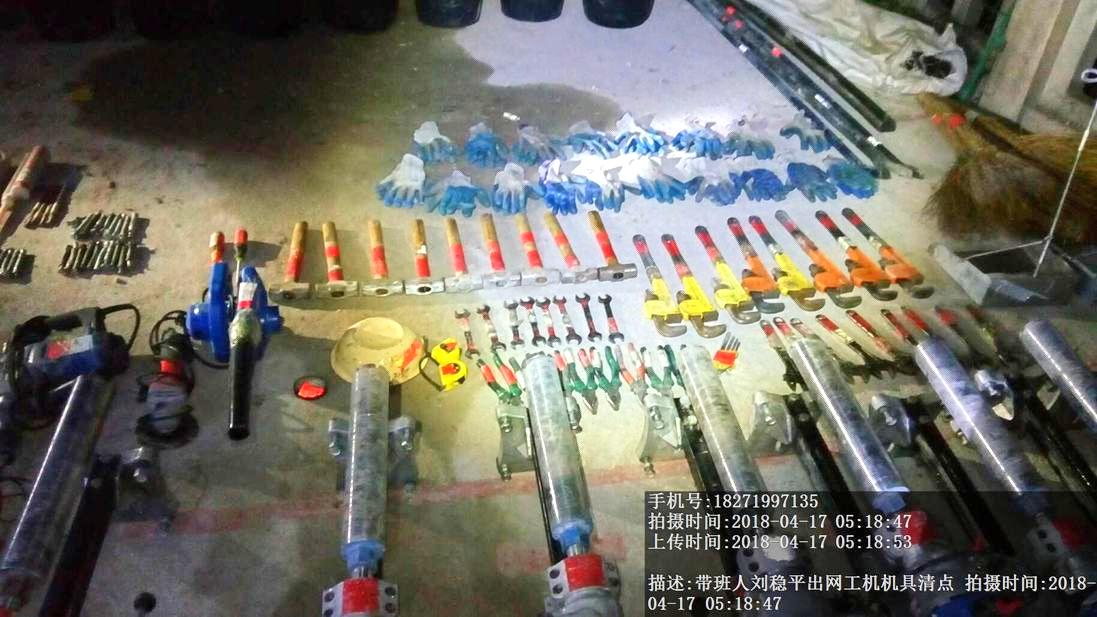DMJ: (135, 334, 197, 451)
GFJ: (191, 271, 283, 444)
SB: (918, 92, 1051, 241)
